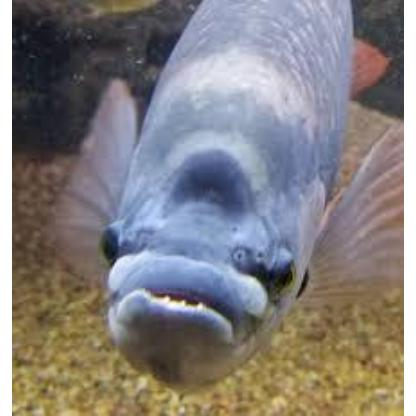gurame: (81, 0, 403, 392)
